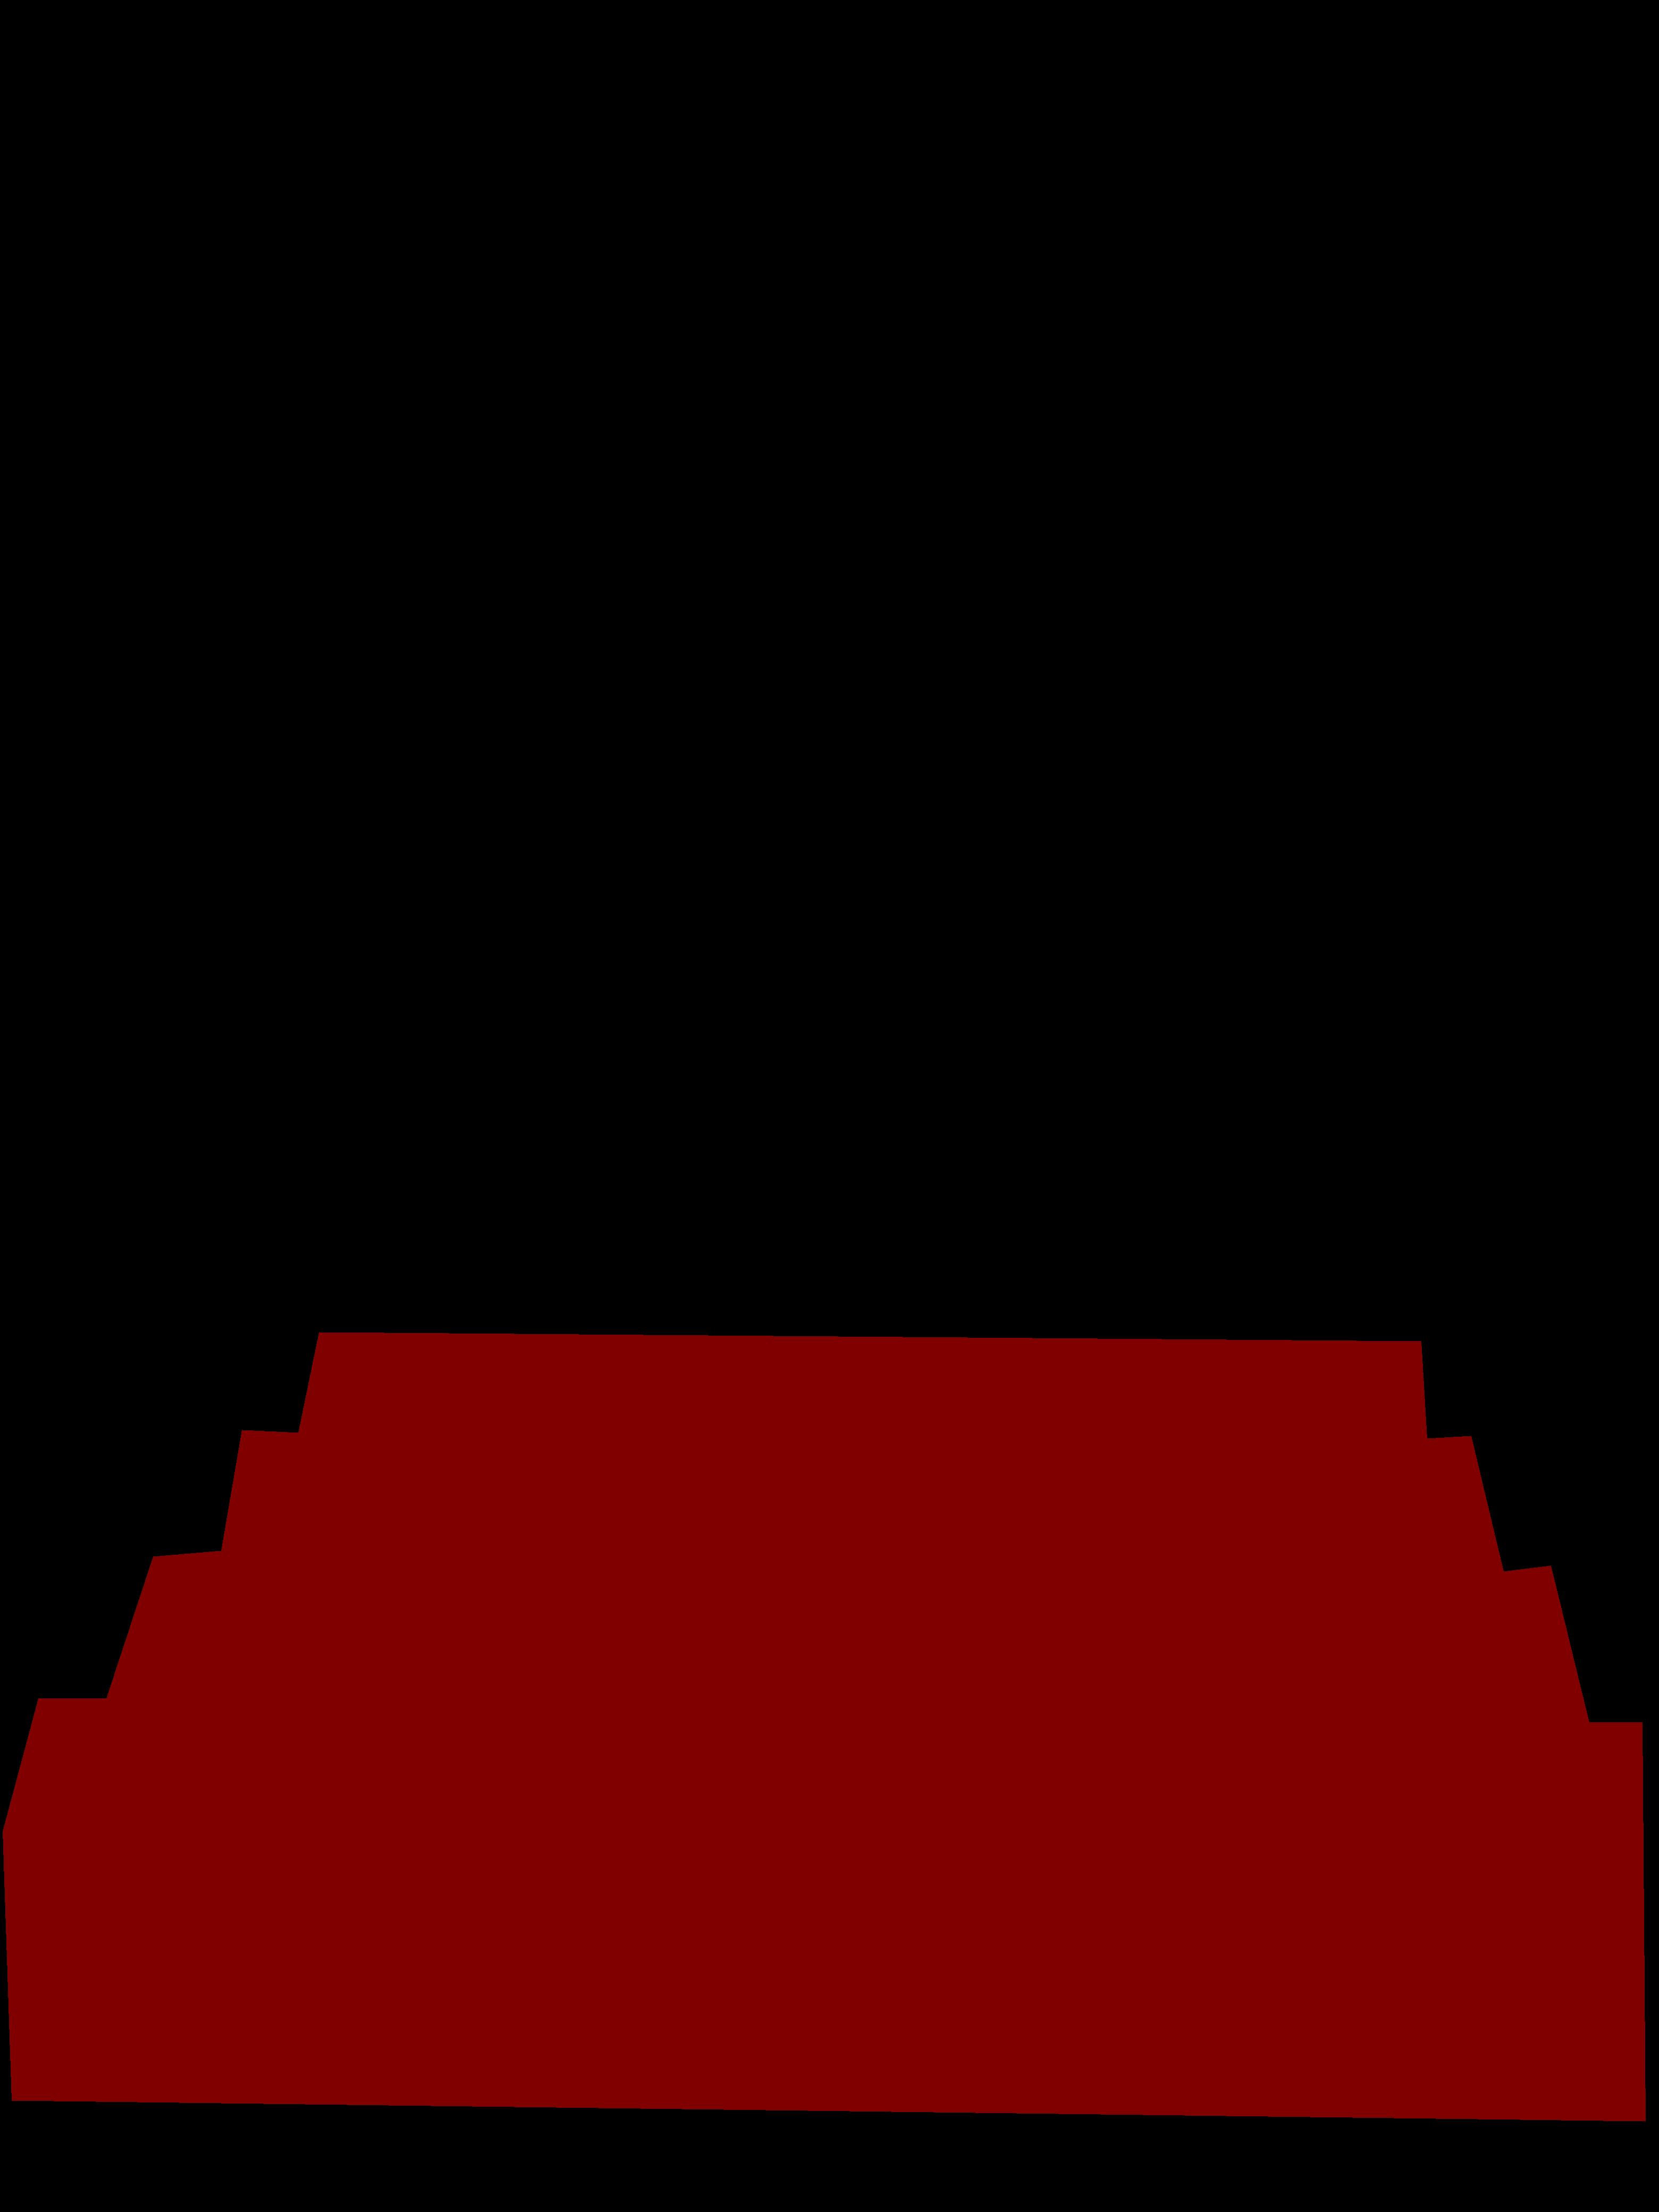stair: (3, 1332, 1645, 2121)
